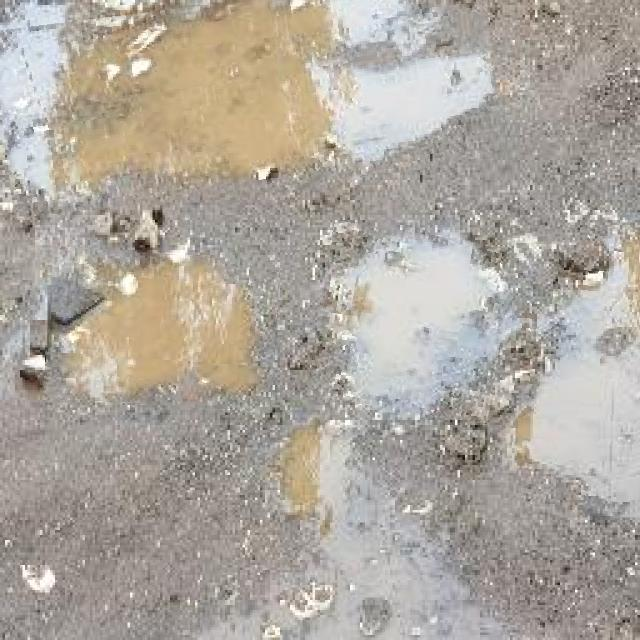puddle: (1, 1, 500, 204), (503, 227, 640, 517), (314, 227, 509, 419), (47, 251, 280, 411)
